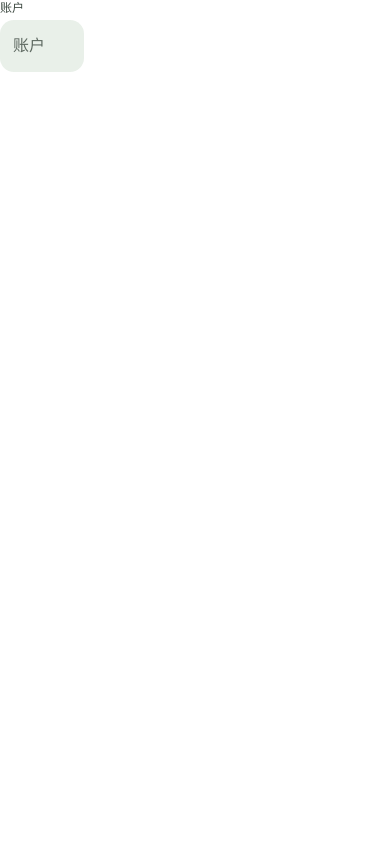
Test case: SourcePicker › a ledger with accounts shared in (decision §14.62) › a list of only my own accounts draws no titles
Click the button with test id "src-trigger" at (42, 46), box left=0, top=20, right=84, bottom=72
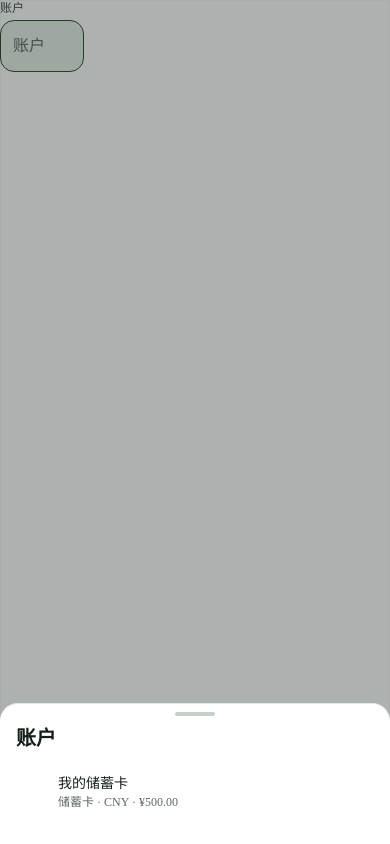
Check: the menu item with test id "src-option-mine-1" is shown, box left=58, top=776, right=178, bottom=809
